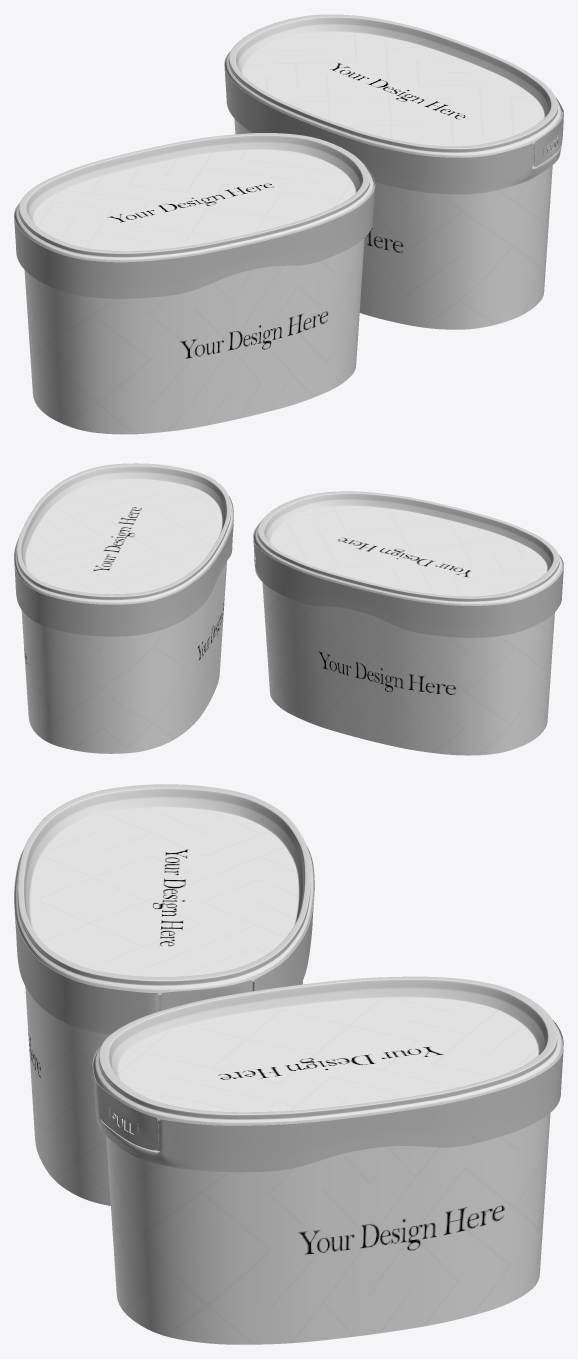
Rendered from oval Angle-1.glb.
3 views of the same model, one above another, from view 1: azimuth 30°, elevation 25°; view 2: azimuth 150°, elevation 25°; view 3: azimuth 270°, elevation 25° (orthographic). The views are drawn at different scales.
Parts seen in each view (by area): view 1: wrapper, wrapper.001, Bottom.007, Bottom.009, Bottom.001, Bottom.004; view 2: wrapper, wrapper.001, Bottom.007, Bottom.009, Bottom.001, Bottom.004; view 3: wrapper.001, wrapper, Bottom.004, Bottom.001, Bottom.009, Bottom.007.
Part boxes in pixels (x1,y1,x2,y2): wrapper: [24, 149, 364, 434]; wrapper.001: [234, 32, 552, 329]; Bottom.007: [14, 163, 375, 298]; Bottom.009: [14, 133, 374, 261]; Bottom.001: [224, 14, 562, 157]; Bottom.004: [224, 51, 563, 194]; wrapper: [262, 506, 554, 755]; wrapper.001: [21, 479, 226, 753]; Bottom.007: [253, 520, 563, 637]; Bottom.009: [254, 491, 563, 605]; Bottom.001: [14, 463, 233, 604]; Bottom.004: [14, 495, 233, 636]; wrapper.001: [106, 997, 550, 1344]; wrapper: [25, 807, 302, 1205]; Bottom.004: [92, 1019, 563, 1172]; Bottom.001: [93, 976, 563, 1125]; Bottom.009: [14, 784, 314, 994]; Bottom.007: [14, 844, 314, 1035].
Bounding box in the file's own units: 0.2278 × 0.0751 × 0.1578.
3 materials, 1 textured.
